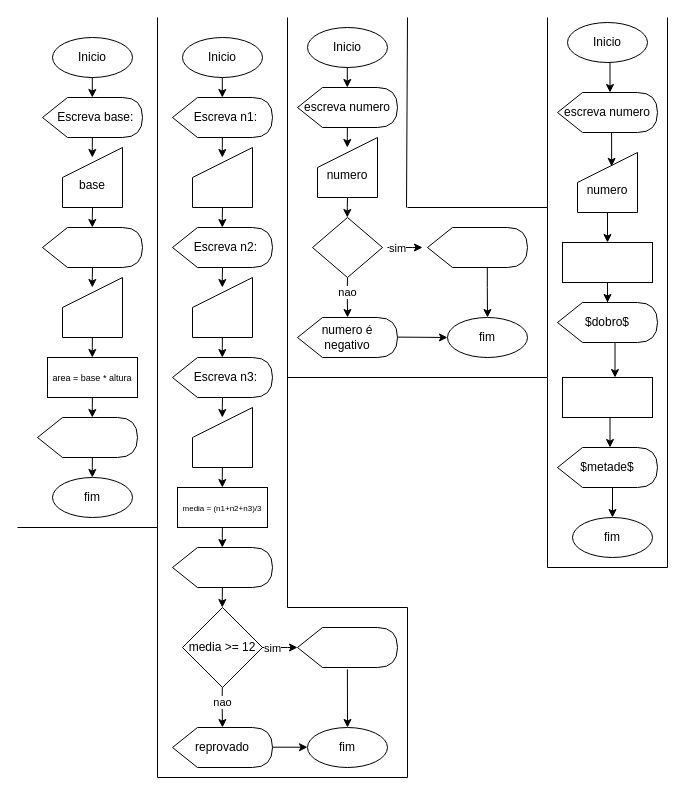
This 686x796 diagram has some shape labels left out. Each missing label, with the centre of its shape:
"altura" belongs at [92,307].
"aprovado" belongs at [347,647].
"area" belongs at [87,437].
"calcular a metade do numero" belongs at [607,397].
"calcular o dobro do numero" belongs at [607,262].
"Escreva altura:" belongs at [92,247].
"media" belongs at [222,567].
"n1" belongs at [222,177].
"n2" belongs at [222,307].
"n3" belongs at [222,437].
"numero > 0" belongs at [347,247].
"o numero é positivo" belongs at [477,247].
